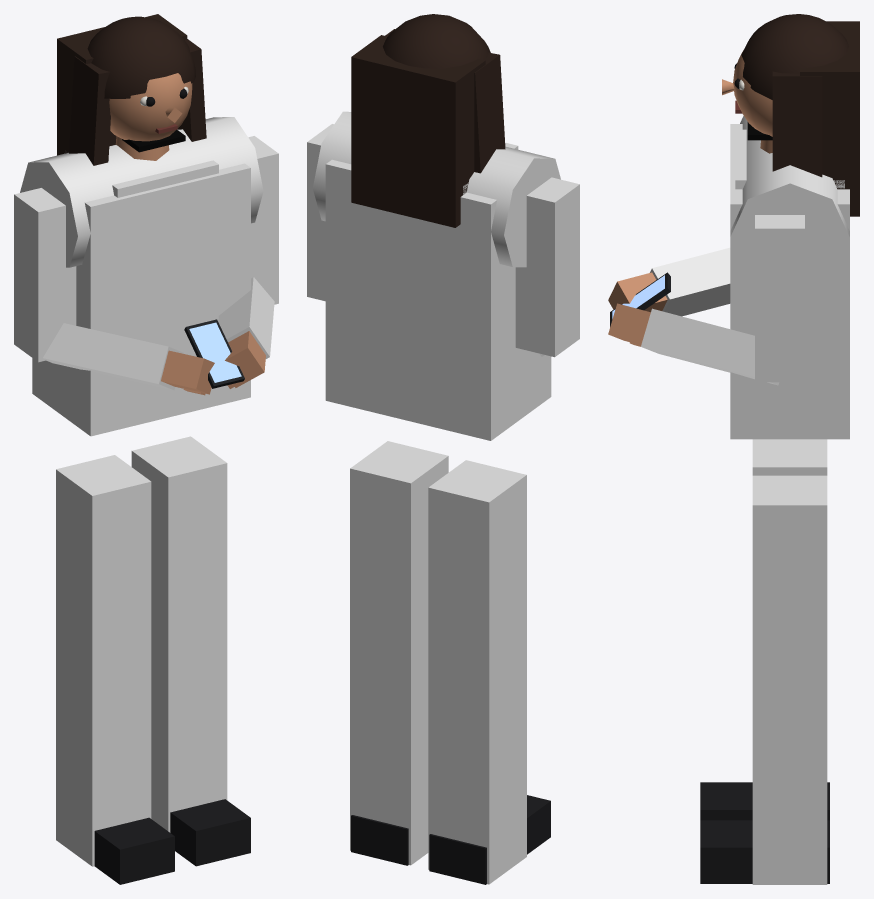
File: NPC_mom.fbx
3 views of the same model, side by side, from view 1: azimuth 30°, elevation 25°; view 2: azimuth 150°, elevation 25°; view 3: azimuth 270°, elevation 25° (orthographic). The views are drawn at different scales.
Visible parts, largest first — view 1: Body_Cloth_Pants.004, Body_Cloth_Shirt.004, Head_Hair.006, Body_Shoe.004, Head_Skin.006, Body_Skin.006, Prop_Phone_PhoneScreen.002, Prop_Phone_PhoneBody.002, Head_JawShade.006; view 2: Body_Cloth_Pants.004, Body_Cloth_Shirt.004, Head_Hair.006, Body_Shoe.004; view 3: Body_Cloth_Shirt.004, Body_Cloth_Pants.004, Head_Hair.006, Body_Shoe.004, Body_Skin.006, Head_Skin.006, Prop_Phone_PhoneScreen.002.
Boxes of the visible parts, x1=… form: Body_Cloth_Pants.004: x1=56, y1=436, x2=227, y2=866; Body_Cloth_Shirt.004: x1=14, y1=117, x2=278, y2=436; Head_Hair.006: x1=57, y1=14, x2=206, y2=165; Body_Shoe.004: x1=94, y1=799, x2=250, y2=884; Head_Skin.006: x1=109, y1=73, x2=192, y2=141; Body_Skin.006: x1=115, y1=136, x2=265, y2=395; Prop_Phone_PhoneScreen.002: x1=189, y1=322, x2=241, y2=382; Prop_Phone_PhoneBody.002: x1=184, y1=319, x2=244, y2=388; Head_JawShade.006: x1=122, y1=129, x2=185, y2=152; Body_Cloth_Pants.004: x1=350, y1=441, x2=526, y2=884; Body_Cloth_Shirt.004: x1=307, y1=111, x2=579, y2=440; Head_Hair.006: x1=351, y1=14, x2=505, y2=227; Body_Shoe.004: x1=351, y1=795, x2=550, y2=884; Body_Cloth_Shirt.004: x1=641, y1=116, x2=849, y2=439; Body_Cloth_Pants.004: x1=752, y1=439, x2=827, y2=884; Head_Hair.006: x1=741, y1=14, x2=859, y2=216; Body_Shoe.004: x1=700, y1=782, x2=829, y2=883; Body_Skin.006: x1=608, y1=140, x2=772, y2=346; Head_Skin.006: x1=722, y1=50, x2=772, y2=136; Prop_Phone_PhoneScreen.002: x1=612, y1=275, x2=664, y2=318.
Size of the model in its own units: 0.57 by 1.84 by 0.5048.
